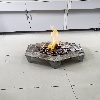fire: (40, 25, 65, 55)
